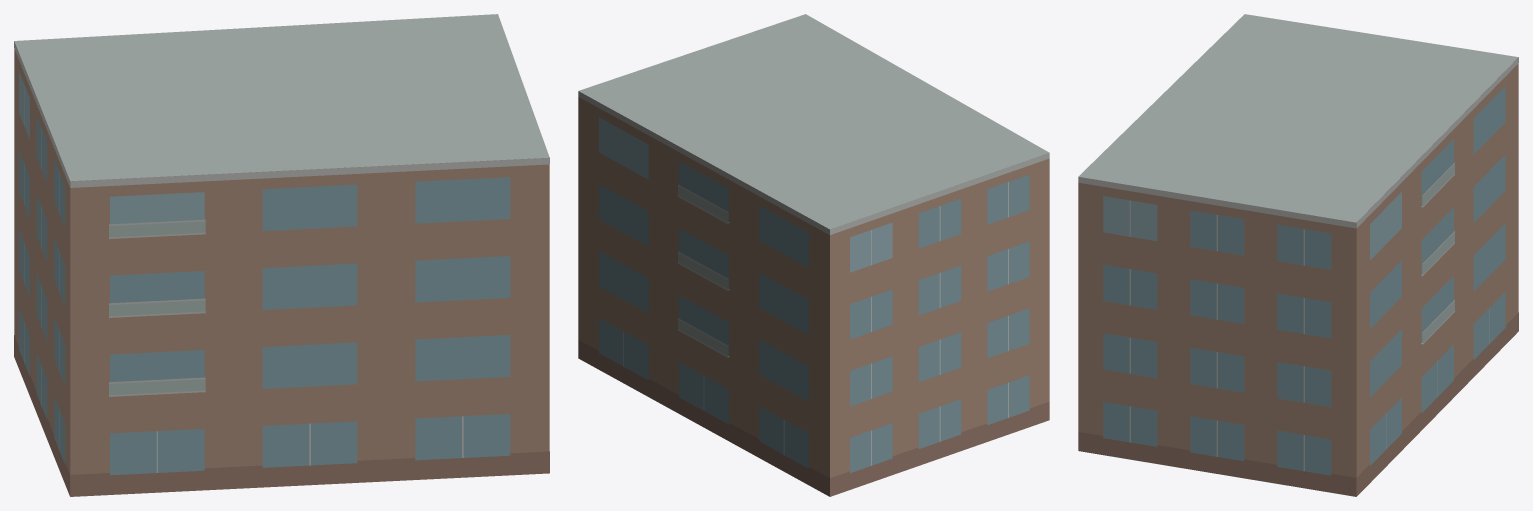
The model's file is survey-upis-32674883.glb.
The picture shows the model from 3 angles, left to right: view 1: azimuth 30°, elevation 25°; view 2: azimuth 150°, elevation 25°; view 3: azimuth 270°, elevation 25°; orthographic projection. The views are drawn at different scales.
Visible parts, largest first — view 1: survey-upis-32674883.tmp; view 2: survey-upis-32674883.tmp; view 3: survey-upis-32674883.tmp.
Boxes of the visible parts, box(x1,y1,x2,y2) form: survey-upis-32674883.tmp: box(14, 14, 549, 496); survey-upis-32674883.tmp: box(578, 14, 1049, 496); survey-upis-32674883.tmp: box(1078, 14, 1518, 496).
Size of the model in its own units: 18.61 by 11.4 by 16.61.
